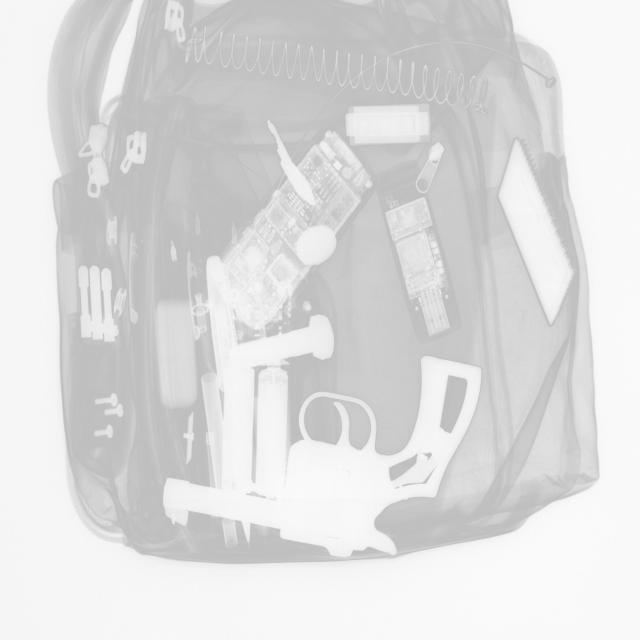pistol: (162, 352, 484, 558)
